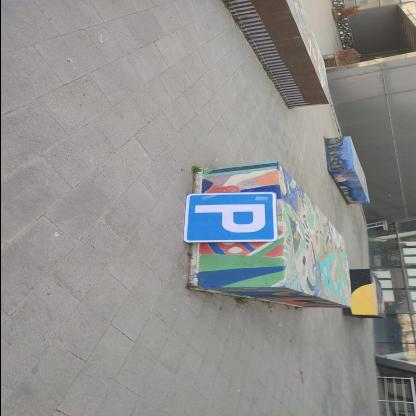Parking-Sign: (183, 193, 278, 245)
